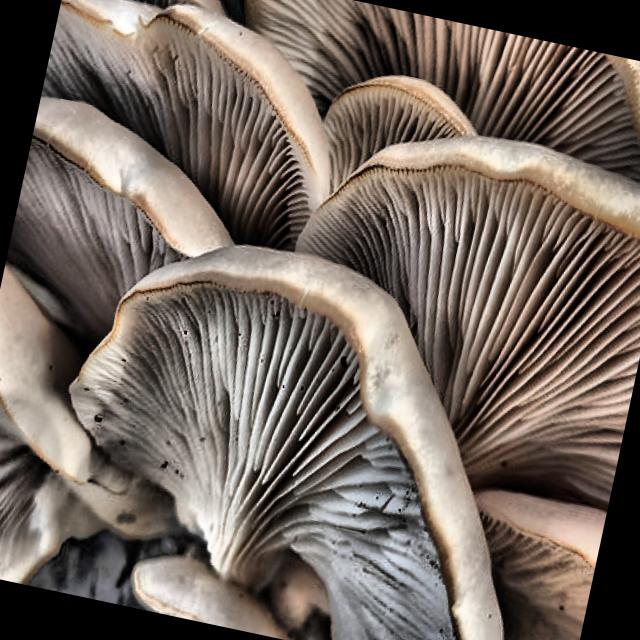Affected: (467, 197, 640, 461), (233, 314, 412, 557), (441, 25, 619, 182), (198, 124, 309, 228)
